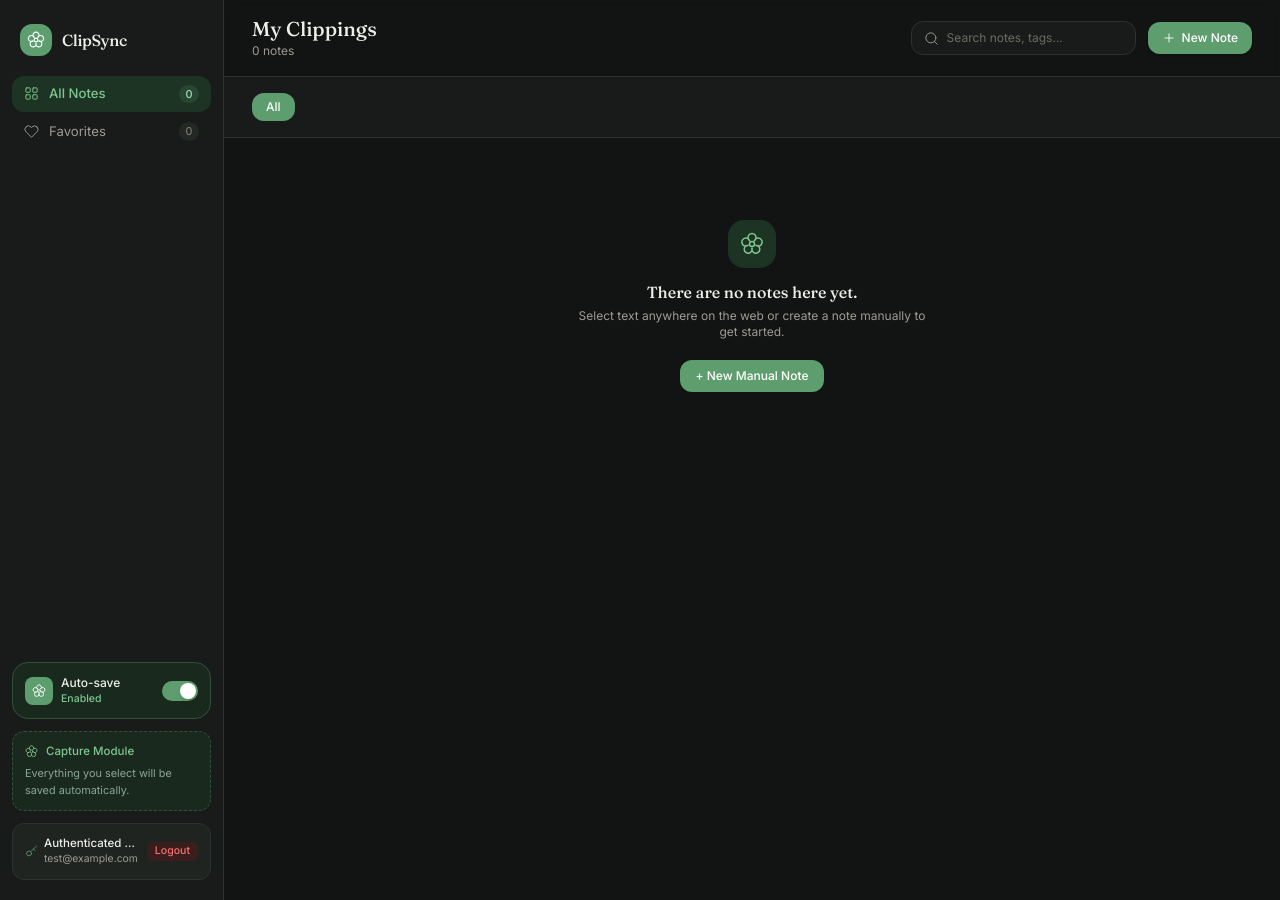
Scenario: Dashboard Unit Tests › Opening modal for adding a new note
Expected: the text "Add new note" is not shown
Click the button "New Note" at (1200, 38), box [1148, 22, 1252, 54]
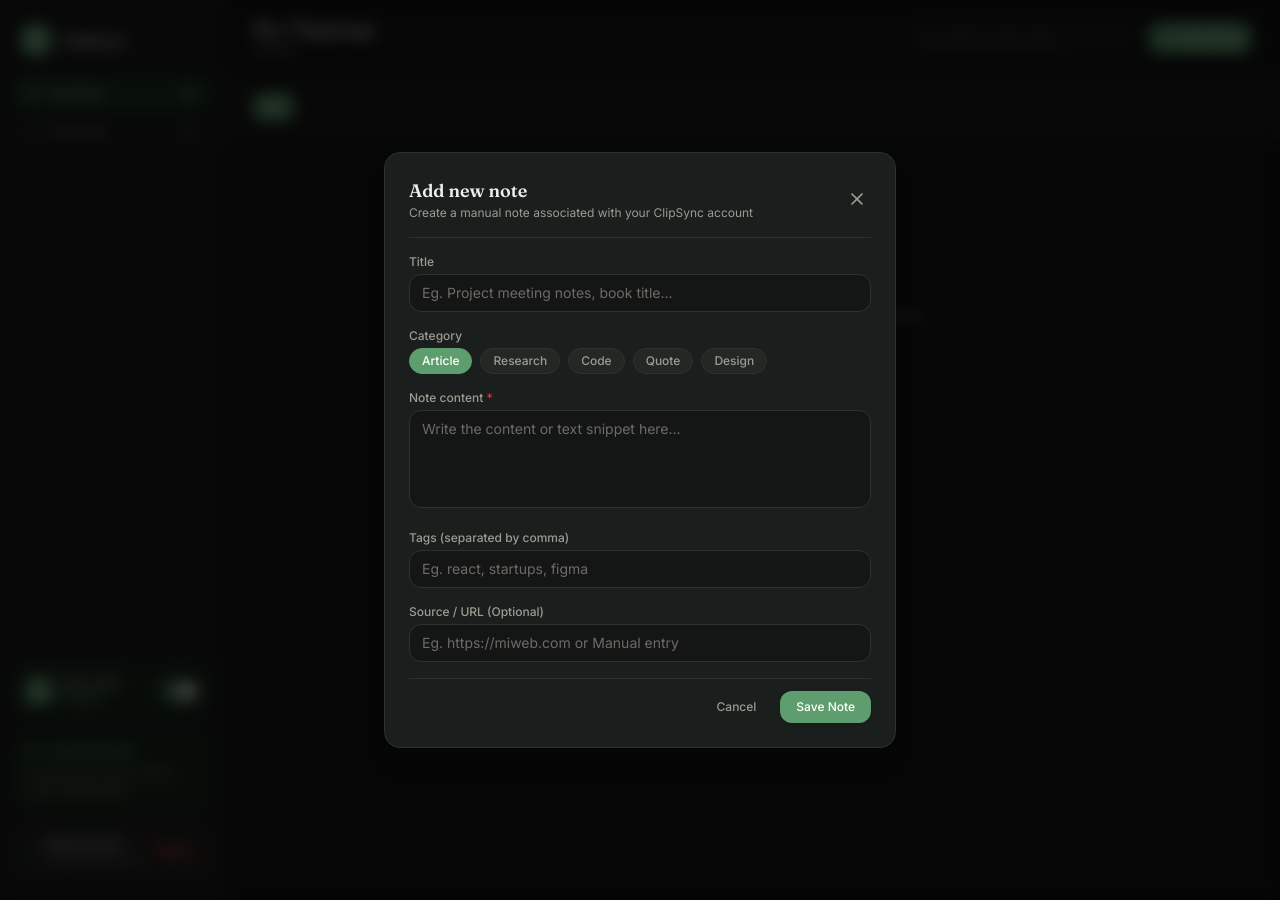
Expected: the heading "Add new note" is shown, [409, 179, 527, 202]
